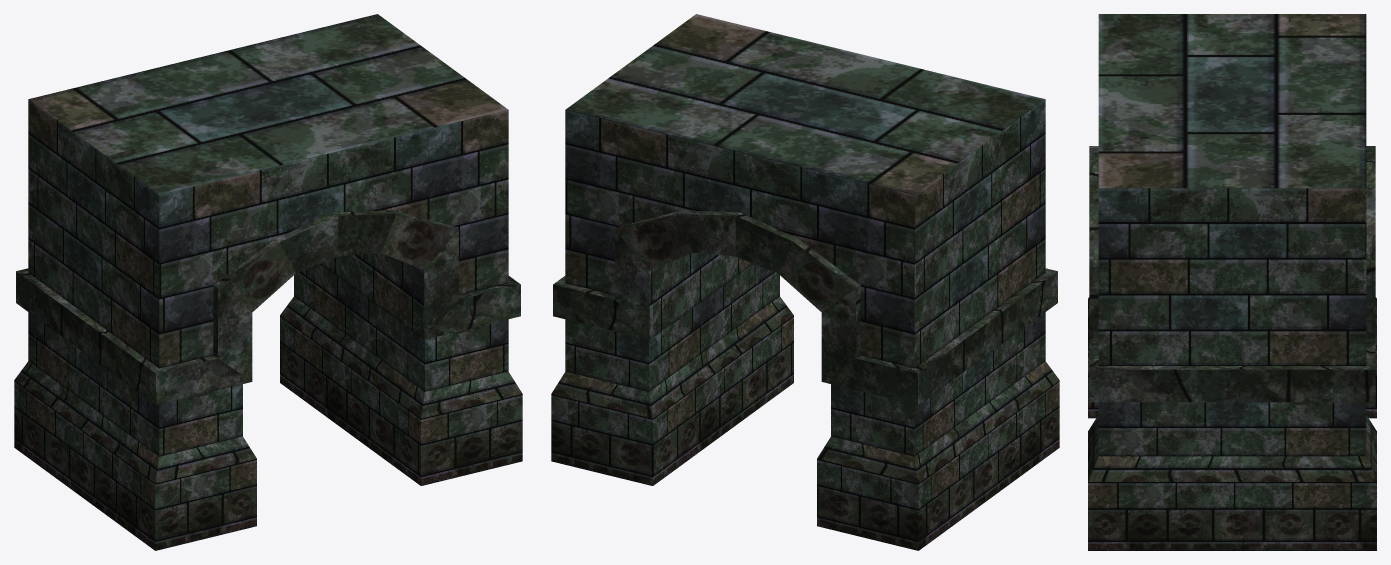
File: SM_CastleBridgeV1.fbx
The picture shows the model from 3 angles, left to right: view 1: azimuth 30°, elevation 25°; view 2: azimuth 150°, elevation 25°; view 3: azimuth 270°, elevation 25°; orthographic projection. The views are drawn at different scales.
Parts seen in each view (by area): view 1: BridgeV1; view 2: BridgeV1; view 3: BridgeV1.
Part boxes in pixels (x1=…): BridgeV1: x1=14, y1=14, x2=522, y2=550; BridgeV1: x1=551, y1=14, x2=1059, y2=550; BridgeV1: x1=1088, y1=14, x2=1376, y2=550.
Bounding box in the file's own units: 2100 × 1913 × 1398.
